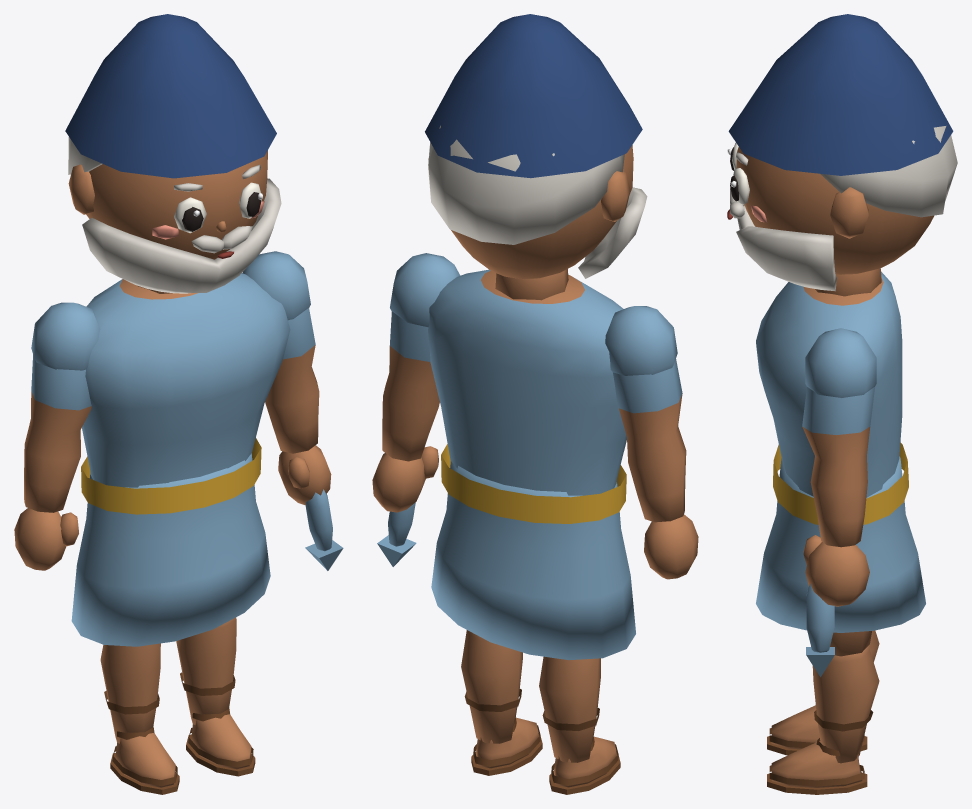
Rendered from fischer.glb.
3 views of the same model, side by side, from view 1: azimuth 30°, elevation 25°; view 2: azimuth 150°, elevation 25°; view 3: azimuth 270°, elevation 25° (orthographic). The views are drawn at different scales.
Visible parts, largest first — view 1: rumpf, huefte, kopfschmuck, armL, kopf, armR, bart, knieL, knieR, itemR, augeL, augeR; view 2: rumpf, huefte, kopfschmuck, armL, armR, haare, kopf, knieL, knieR, bart, itemR; view 3: kopfschmuck, rumpf, armR, huefte, kopf, knieR, haare, bart, knieL, itemR, beinR, augeR.
Part boxes in pixels (x1,y1,x2,y2): rumpf: (81,273,290,514); huefte: (71,453,270,646); kopfschmuck: (65,14,276,178); armL: (14,302,100,570); kopf: (68,150,267,293); armR: (242,251,331,505); bart: (82,178,281,293); knieL: (100,643,179,794); knieR: (176,617,255,776); itemR: (305,489,343,570); augeL: (174,197,206,233); augeR: (239,182,262,218); rumpf: (428,269,626,523); huefte: (431,461,635,660); kopfschmuck: (425,14,642,178); armL: (605,306,698,579); armR: (372,253,460,512); haare: (428,125,624,244); kopf: (428,145,633,300); knieL: (539,656,620,794); knieR: (461,630,542,775); bart: (578,187,647,278); itemR: (377,502,416,566); kopfschmuck: (728,14,953,175); rumpf: (756,271,908,524); armR: (802,328,876,606); huefte: (756,456,925,632); kopf: (736,147,933,296); knieR: (767,645,879,794); haare: (820,126,957,217); bart: (730,188,836,291); knieL: (767,630,879,755); itemR: (806,583,834,677); beinR: (830,631,871,656); augeR: (730,168,749,204).
Size of the model in its own units: 1.06 by 2.43 by 0.6768.
